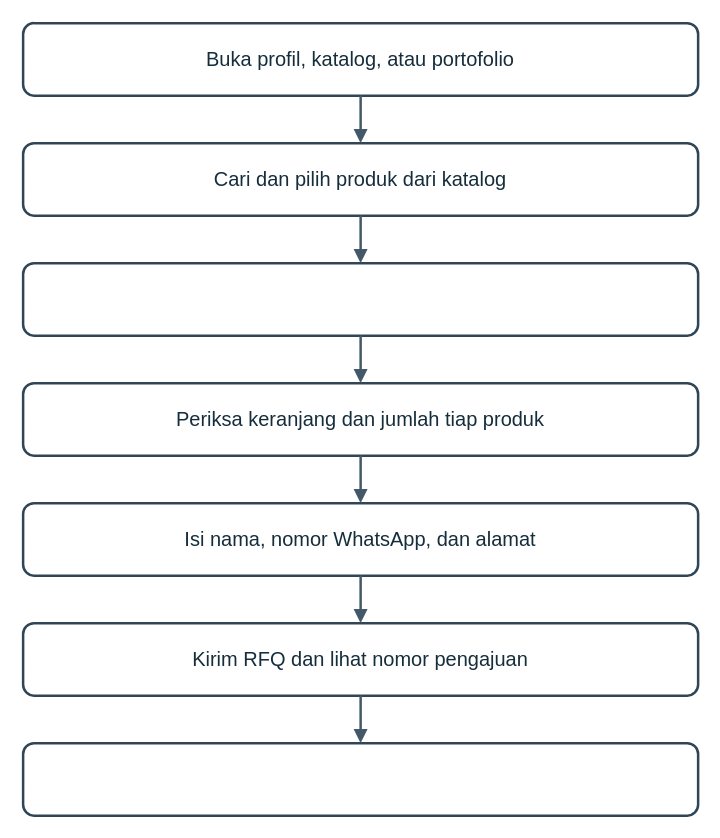
Some shapes in this 720 by 838 pixel diagram are drawn without their labels. The shapes that lost their labels are listed below. From the top down, each one's centre as x and y in pixels, then its label:
(360,298): Lihat detail, lalu tambahkan beberapa produk
(360,778): Buka WhatsApp dengan ringkasan semua item
